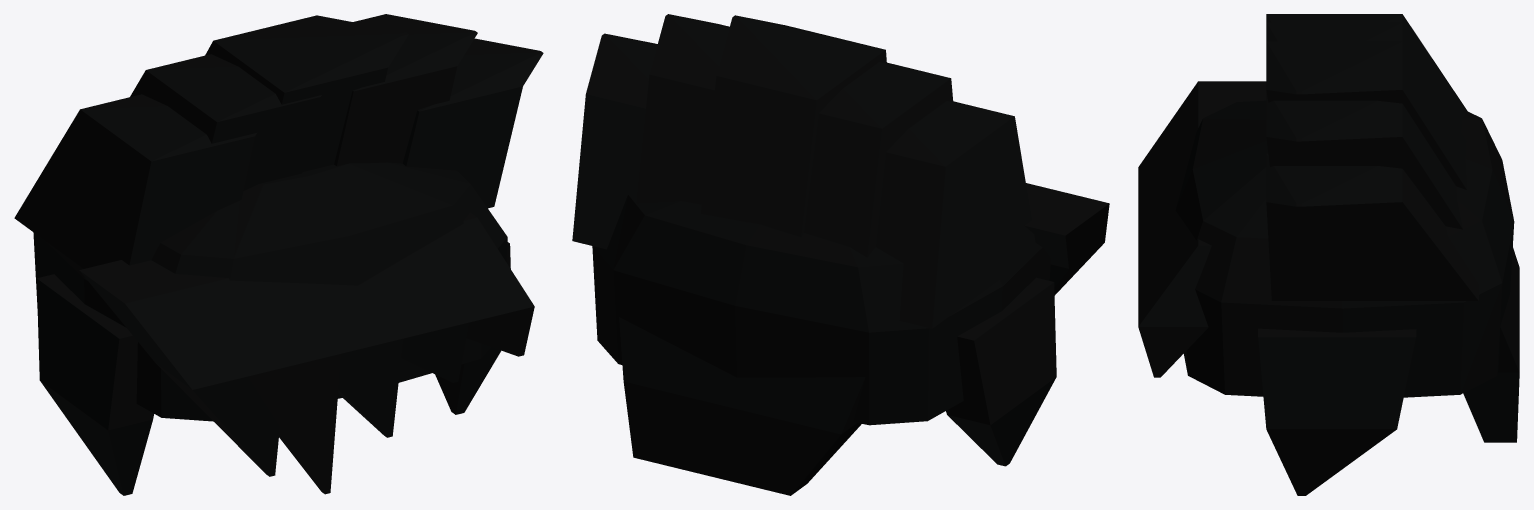
File: hair-wind-swept-v1.fbx
3 renders of one model, left to right at view 1: azimuth 30°, elevation 25°; view 2: azimuth 150°, elevation 25°; view 3: azimuth 270°, elevation 25°, orthographic. The views are drawn at different scales.
Visible parts, largest first — view 1: hair-wind-swept-v1; view 2: hair-wind-swept-v1; view 3: hair-wind-swept-v1.
Boxes of the visible parts, <box> form: hair-wind-swept-v1: <box>14,14,543,495</box>; hair-wind-swept-v1: <box>572,14,1109,495</box>; hair-wind-swept-v1: <box>1138,14,1519,495</box>.
Size of the model in its own units: 190 by 152 by 140.
1 material, 1 textured.
